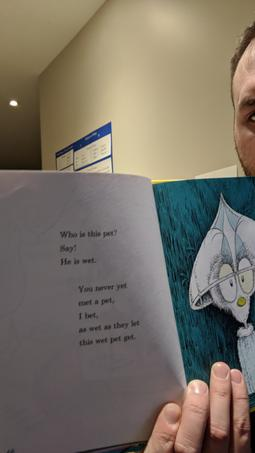text block: (72, 276, 152, 355), (56, 222, 124, 270)
